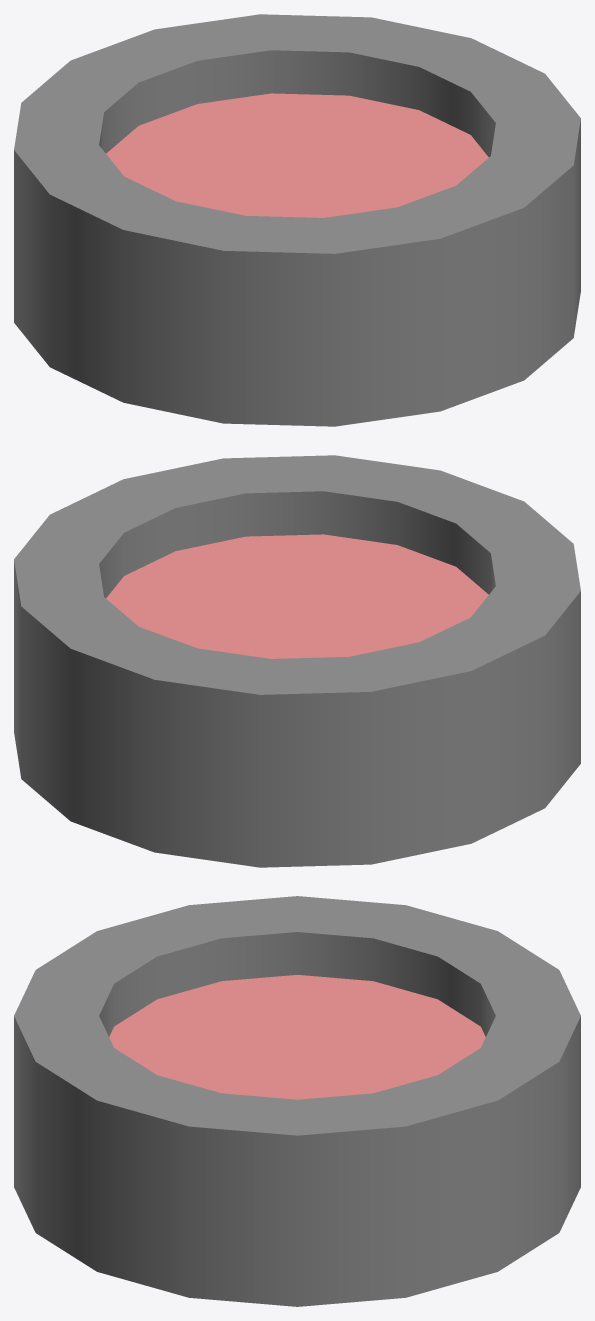
File: SM_Sensor_1x1x1s.gltf
3 renders of one model, top to bottom at view 1: azimuth 30°, elevation 25°; view 2: azimuth 150°, elevation 25°; view 3: azimuth 270°, elevation 25°, orthographic.
Visible parts, largest first — view 1: SM_Sensor_1x1x1s; view 2: SM_Sensor_1x1x1s; view 3: SM_Sensor_1x1x1s.
Boxes of the visible parts, x1,y1,x2,y2 form: SM_Sensor_1x1x1s: [14, 14, 580, 426]; SM_Sensor_1x1x1s: [14, 455, 580, 867]; SM_Sensor_1x1x1s: [14, 896, 580, 1306].
Size of the model in its own units: 0.3 by 0.1 by 0.3.
